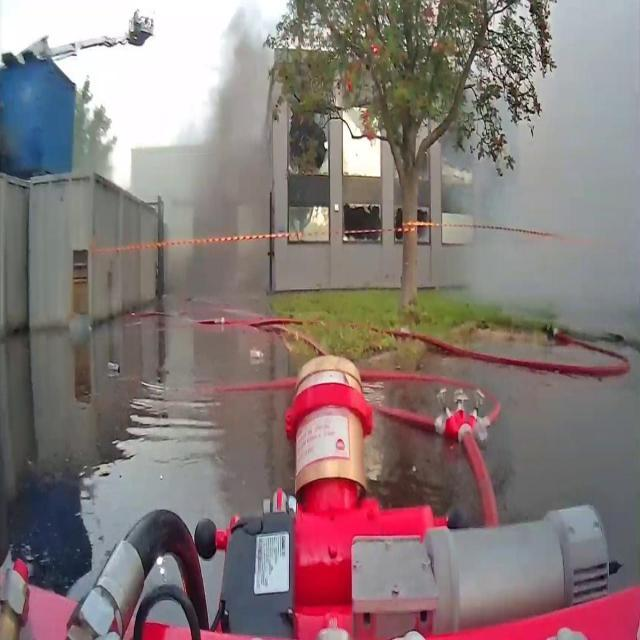Fire: (342, 109, 380, 178), (305, 204, 329, 227)
Smoke: (447, 0, 640, 324), (175, 5, 278, 287)
